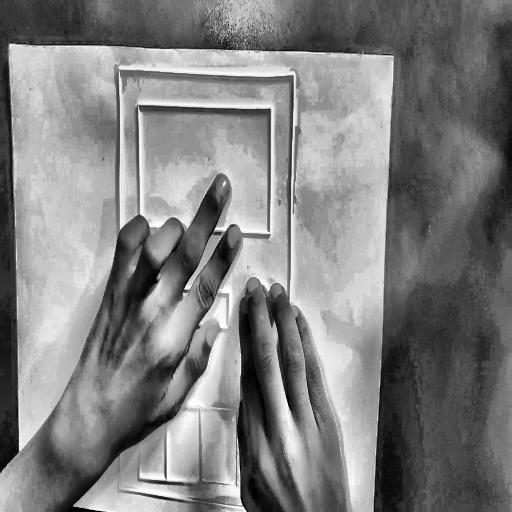bottom_left: (21, 497, 27, 507)
door: (108, 61, 300, 512)
top_left: (6, 39, 13, 50)
top_right: (390, 49, 398, 64)
